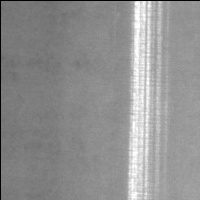scratches: (124, 1, 169, 200)
